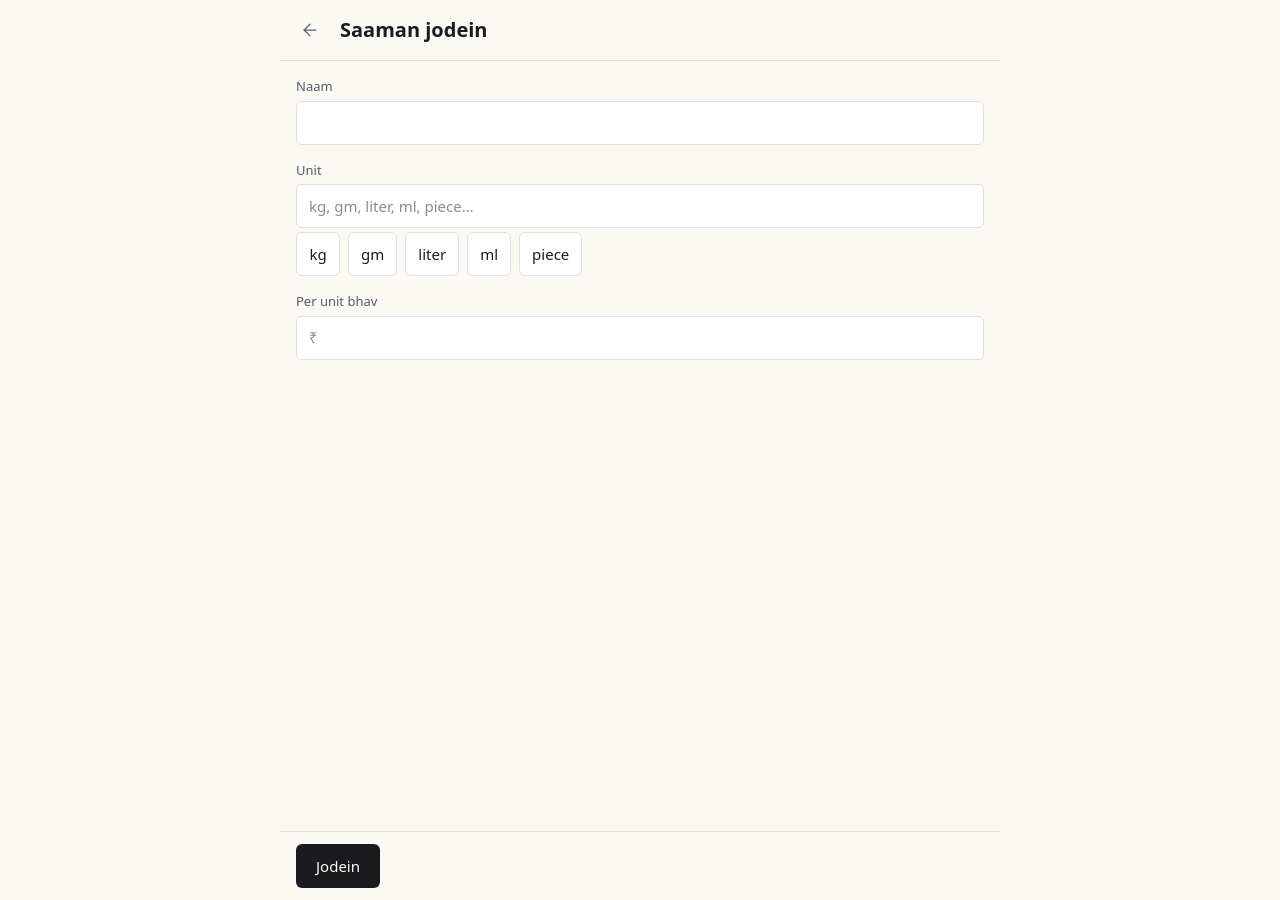
Test case: Add product and Edit product › Add product: labels, and the domain's refusals said in the language - in hl
Check: the heading "Saaman jodein" is shown, box [340,15,488,45]
Check: the text "Per unit bhav" is shown, box [296,292,377,310]
Click the button "Jodein". click: coordinates (338, 866)
box: [296,844,380,888]
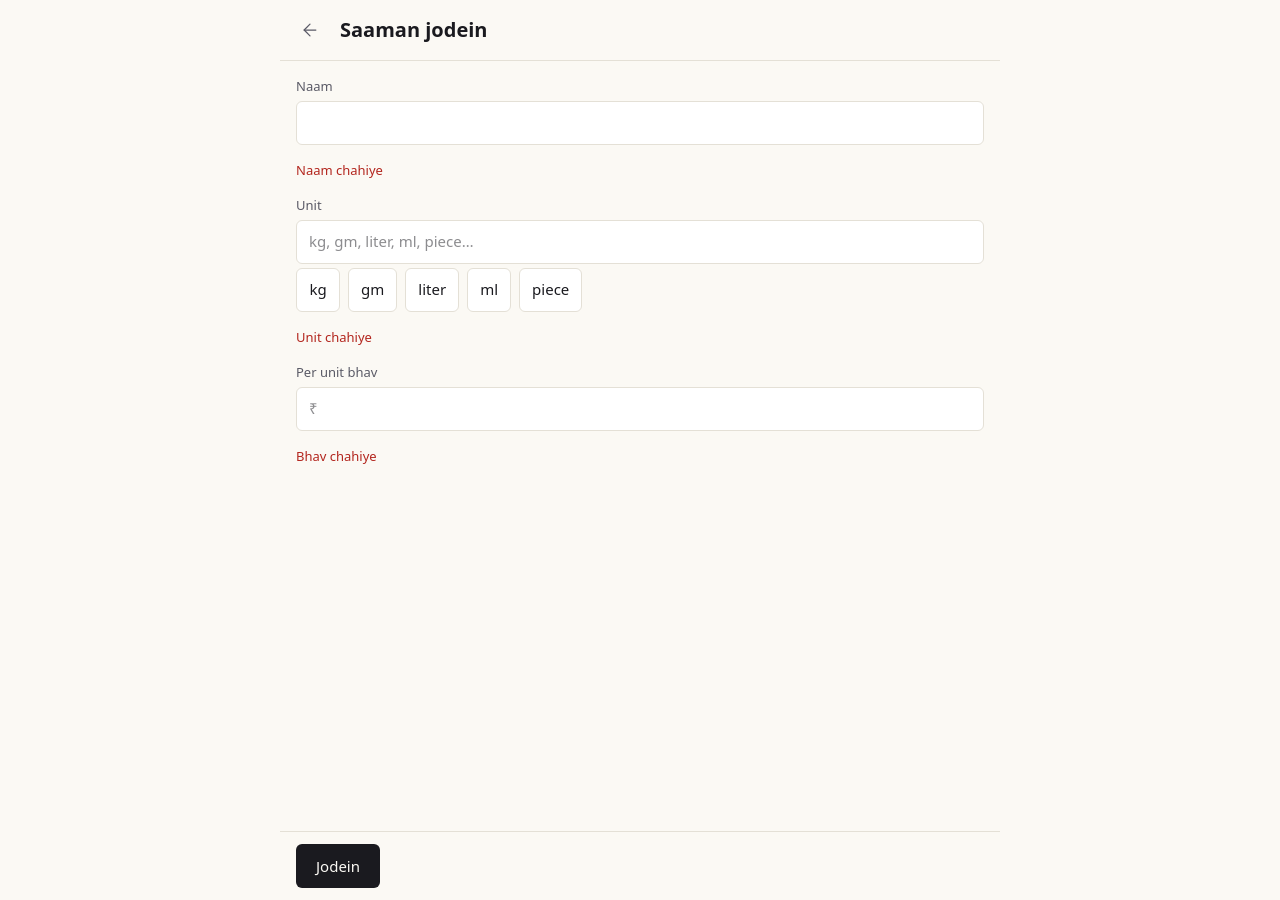
Check: the message "Naam chahiye" is shown, box [296,160,383,178]
Check: the message "Unit chahiye" is shown, box [296,328,372,346]
Check: the message "Bhav chahiye" is shown, box [296,446,377,464]
